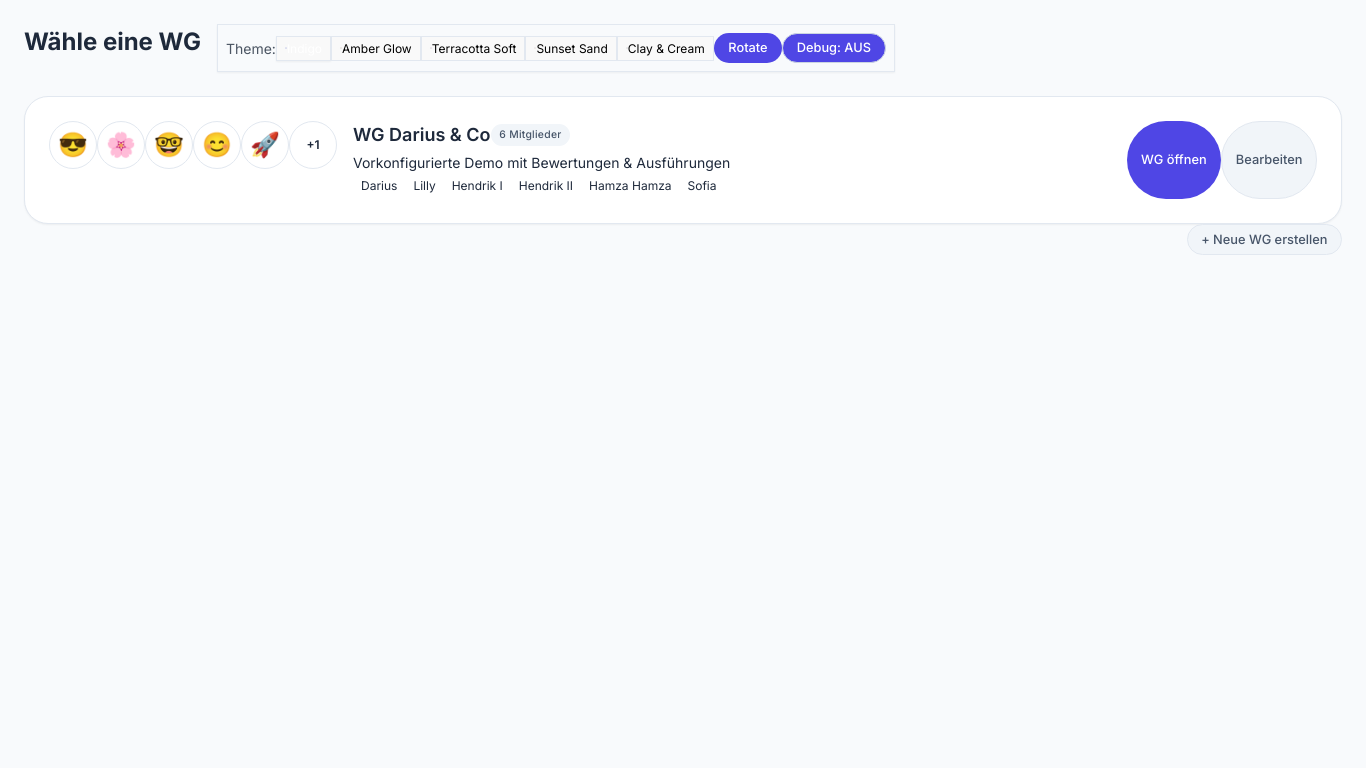
Test case: Ratings Flow › navigates to ratings overview and lists members
This screenshot has width=1366, height=768.
Click the button with test id "open-wg-" at (1174, 160), box [1126, 121, 1221, 199]
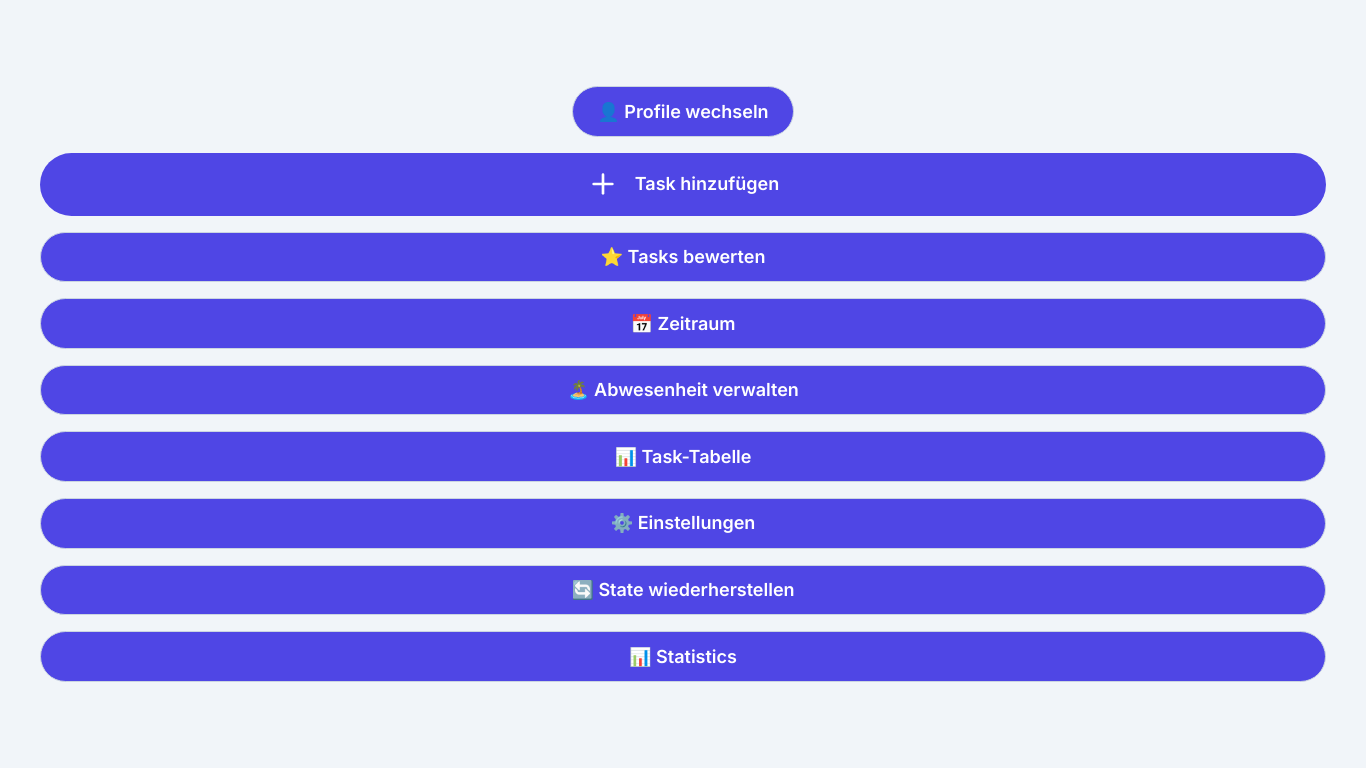
Check: the button with test id "add-task-btn" is shown, box [40, 153, 1326, 216]
Click the button with test id "rate-tasks-btn" at (683, 257), box [40, 232, 1326, 282]
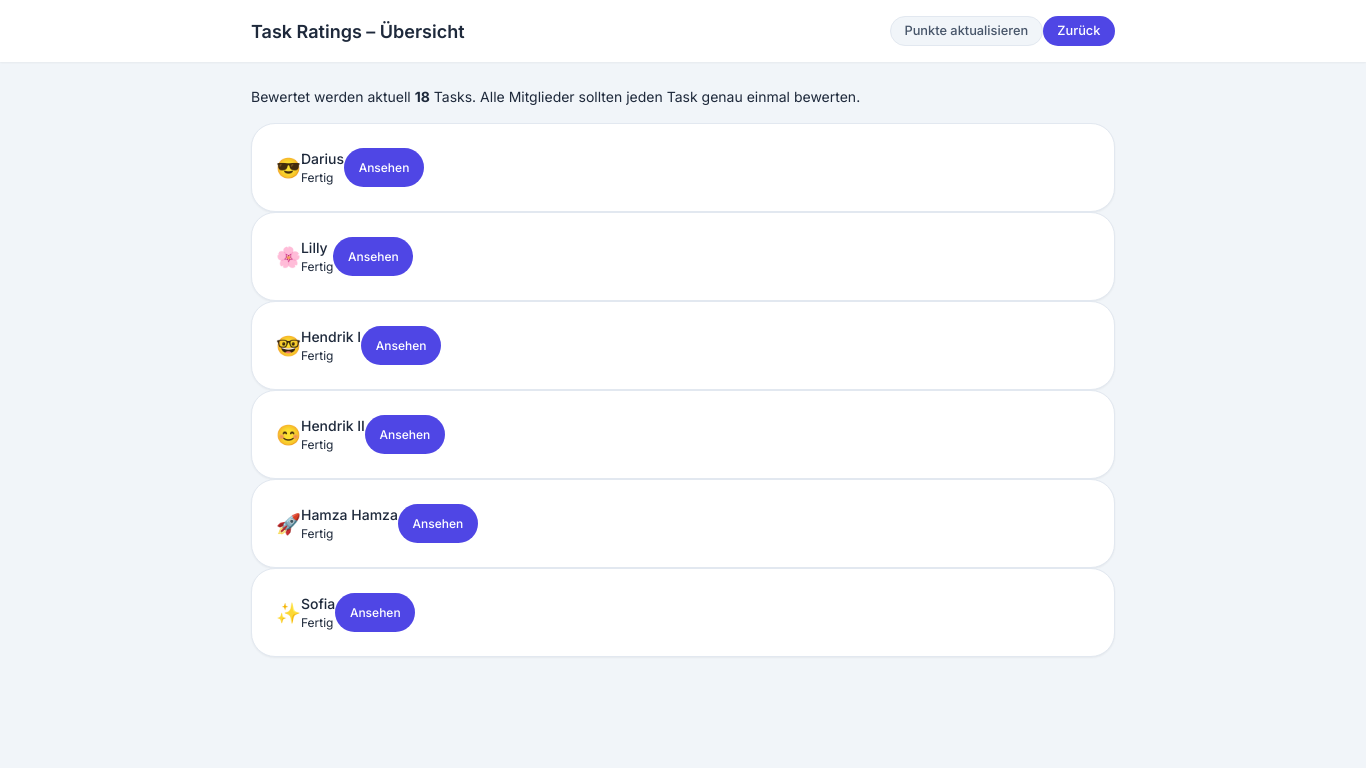
Check: the heading "Task Ratings – Übersicht" is shown, box [251, 18, 465, 45]
